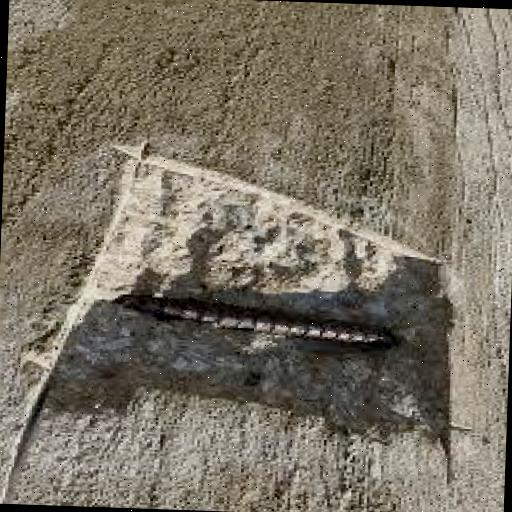spalling: (33, 165, 443, 430)
